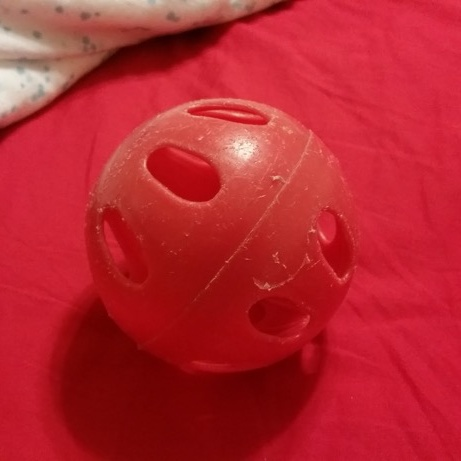redball: (79, 93, 365, 382)
